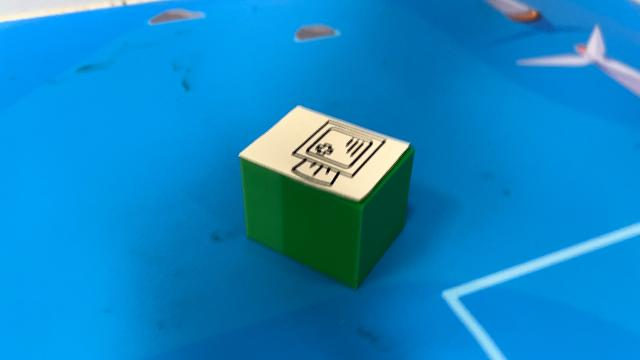napkin: (236, 102, 417, 290)
